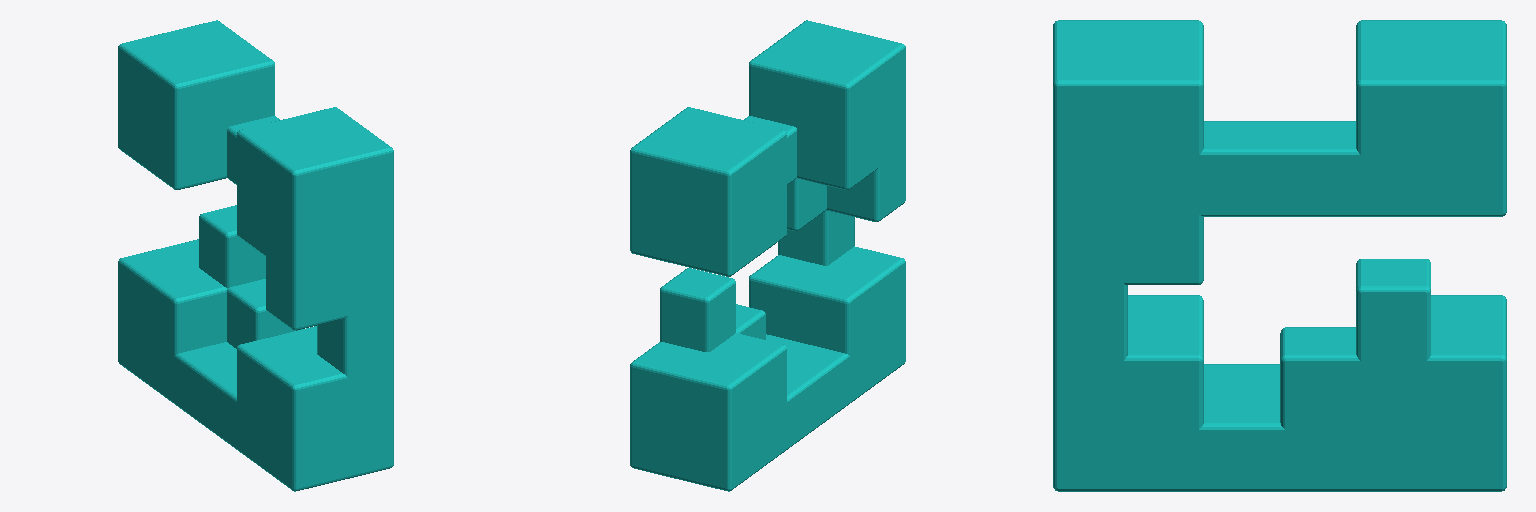
URDF robot description (obj_3):
<robot name="obj_3" version="1.0">
  <link name="link_piece_3">
    <collision name="piece_3-collision.001">
      <origin rpy="1.57080 0.00000 -1.57080" xyz="-0.28045 0.22600 0.44300"/>
      <geometry>
        <mesh filename="../meshes/obj/piece_3-collision.001.obj" scale="2.12910 2.12910 2.12910"/>
      </geometry>
    </collision>
    <collision name="piece_3-collision.002">
      <origin rpy="1.57080 -0.00000 -1.57080" xyz="-0.23493 0.50248 0.23762"/>
      <geometry>
        <mesh filename="../meshes/obj/piece_3-collision.002.obj" scale="2.10148 2.12910 2.12910"/>
      </geometry>
    </collision>
    <collision name="piece_3-collision.003">
      <origin rpy="1.57080 0.00000 -1.57080" xyz="-0.28489 0.54581 0.15736"/>
      <geometry>
        <mesh filename="../meshes/obj/piece_3-collision.003.obj" scale="2.12910 2.12910 2.12910"/>
      </geometry>
    </collision>
    <collision name="piece_3-collision.004">
      <origin rpy="1.57080 0.00000 -1.57080" xyz="-0.23540 0.38388 0.38450"/>
      <geometry>
        <mesh filename="../meshes/obj/piece_3-collision.004.obj" scale="2.12910 2.08409 2.12910"/>
      </geometry>
    </collision>
    <collision name="piece_3-collision.005">
      <origin rpy="1.57080 0.00000 -1.57080" xyz="-0.28253 0.20294 0.10528"/>
      <geometry>
        <mesh filename="../meshes/obj/piece_3-collision.005.obj" scale="2.09833 2.12910 2.12910"/>
      </geometry>
    </collision>
    <collision name="piece_3-collision.006">
      <origin rpy="1.57080 0.00000 -1.57080" xyz="-0.28155 0.54321 0.43442"/>
      <geometry>
        <mesh filename="../meshes/obj/piece_3-collision.006.obj" scale="2.12910 2.12910 2.12910"/>
      </geometry>
    </collision>
    <collision name="piece_3-collision.007">
      <origin rpy="1.57080 0.00000 -1.57080" xyz="-0.22865 0.15704 0.21627"/>
      <geometry>
        <mesh filename="../meshes/obj/piece_3-collision.007.obj" scale="2.12910 2.12910 2.12910"/>
      </geometry>
    </collision>
    <collision name="piece_3-collision.008">
      <origin rpy="1.57080 0.00000 -1.57080" xyz="-0.27569 0.49660 0.04326"/>
      <geometry>
        <mesh filename="../meshes/obj/piece_3-collision.008.obj" scale="2.12910 2.12910 2.12910"/>
      </geometry>
    </collision>
    <collision name="piece_3-collision.009">
      <origin rpy="1.57080 -0.00000 -1.57080" xyz="-0.23462 0.39742 0.15457"/>
      <geometry>
        <mesh filename="../meshes/obj/piece_3-collision.009.obj" scale="2.11714 2.12910 2.12910"/>
      </geometry>
    </collision>
    <collision name="piece_3-collision.010">
      <origin rpy="1.57080 0.00000 -1.57080" xyz="-0.23616 0.26950 0.28334"/>
      <geometry>
        <mesh filename="../meshes/obj/piece_3-collision.010.obj" scale="2.12910 2.12910 2.12910"/>
      </geometry>
    </collision>
    <collision name="piece_3-collision.011">
      <origin rpy="1.57080 0.00000 -1.57080" xyz="-0.30178 0.16474 0.28169"/>
      <geometry>
        <mesh filename="../meshes/obj/piece_3-collision.011.obj" scale="2.12910 2.12910 2.12910"/>
      </geometry>
    </collision>
    <inertial>
      <inertia ixx="0.00111" ixy="-0.00001" ixz="0.00001" iyy="0.00198" iyz="-0.00000" izz="0.00105"/>
      <origin rpy="0.00000 0.00000 0.00000" xyz="-0.27224 0.36157 0.24510"/>
      <mass value="0.01000"/>
    </inertial>
    <visual name="piece_3">
      <material name="Piece"/>
      <origin rpy="1.57080 0.00000 -1.57080" xyz="-0.27847 0.38243 0.27476"/>
      <geometry>
        <mesh filename="../meshes/obj/threePlates_14m.002.obj" scale="0.01065 0.01065 0.01065"/>
      </geometry>
    </visual>
  </link>
  <material name="Piece">
    <color rgba="0.15294 0.80000 0.78039 1.00000"/>
  </material>
</robot>

--- Render facts (derived) ---
The picture shows the robot from 3 angles, left to right: view 1: azimuth 30°, elevation 25°; view 2: azimuth 150°, elevation 25°; view 3: azimuth 270°, elevation 25°; orthographic projection.
Model obj_3 with 1 links and 0 joints (none), rooted at link_piece_3, posed every joint at zero.
Visible links, largest first — view 1: link_piece_3; view 2: link_piece_3; view 3: link_piece_3.
Link boxes in pixels (x1,y1,x2,y2): link_piece_3: (118,20,393,491); link_piece_3: (630,20,905,491); link_piece_3: (1053,20,1506,491).
Bounding box of the posed robot: 0.169 × 0.5101 × 0.5098 m (x, y, z).
1 mesh visuals loaded from 1 distinct referenced files (1 OBJ).